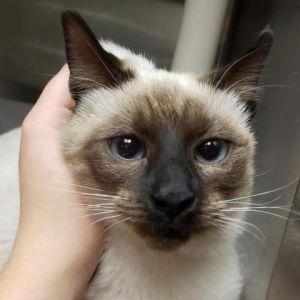siamese: (43, 3, 293, 269)
